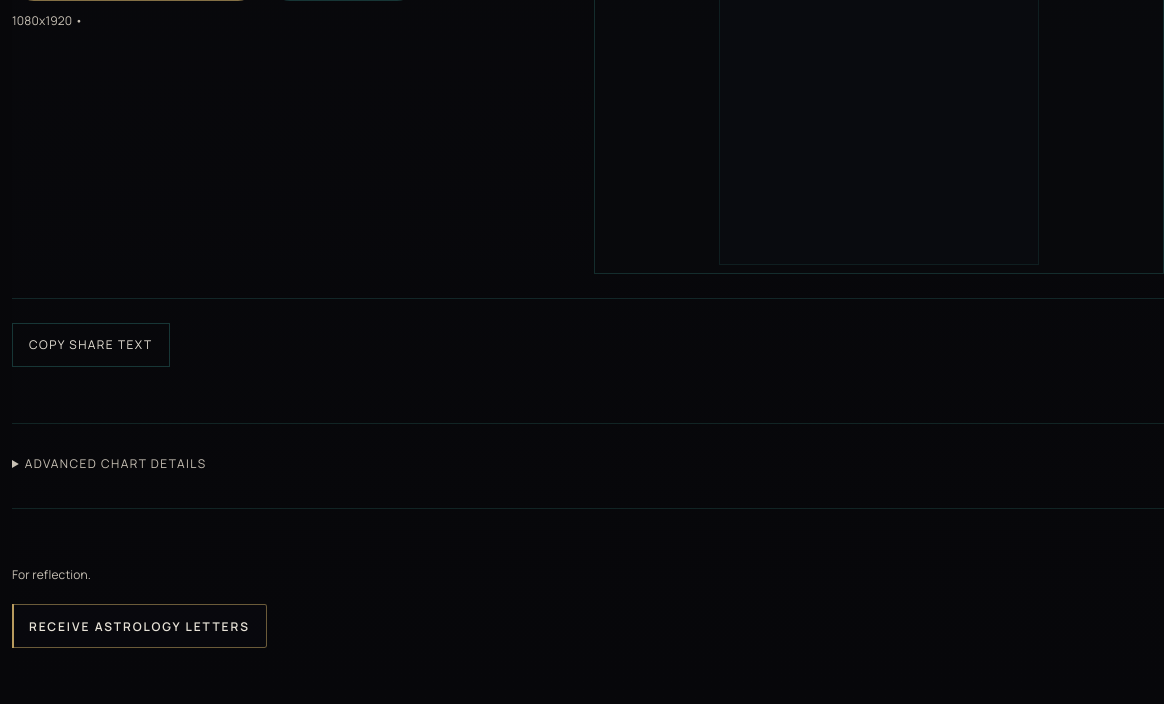
Test case: astrology celestial instrument visual hierarchy › resets copied status when a new reading replaces the previous one
This screenshot has width=1164, height=704.
(page scrolled)
Click the button "Copy share text" at (91, 345), box [12,323,170,367]
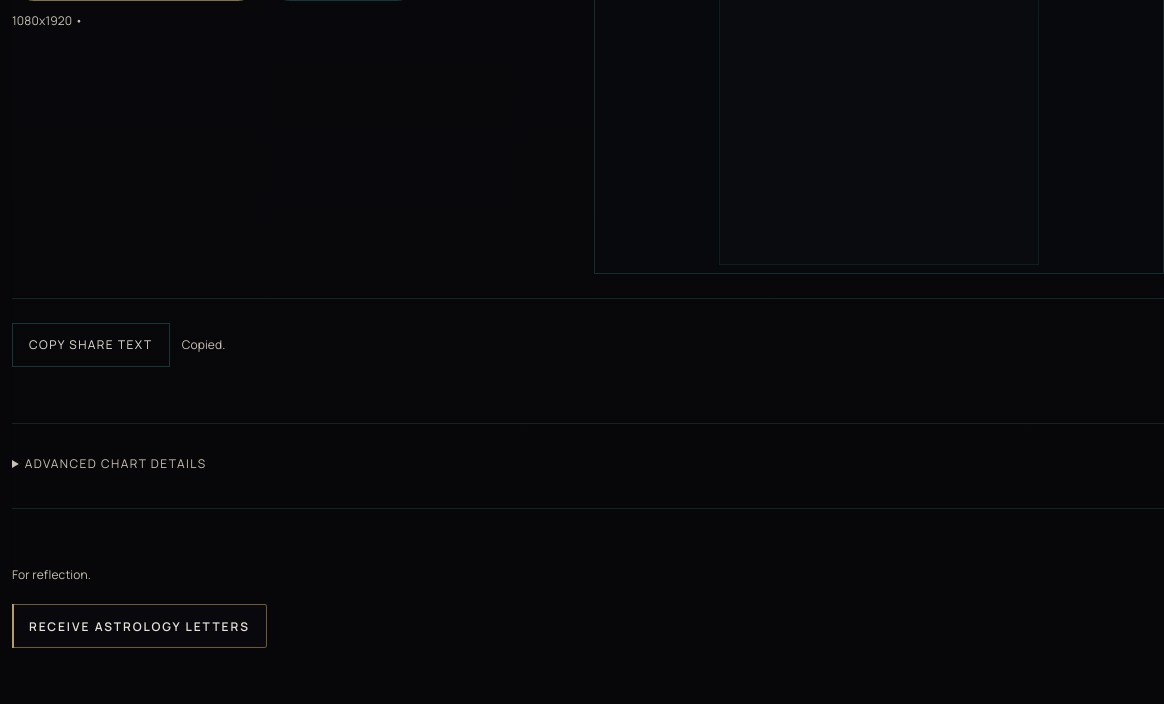
Result: the text "Copied." is shown at [182,337,226,353]
